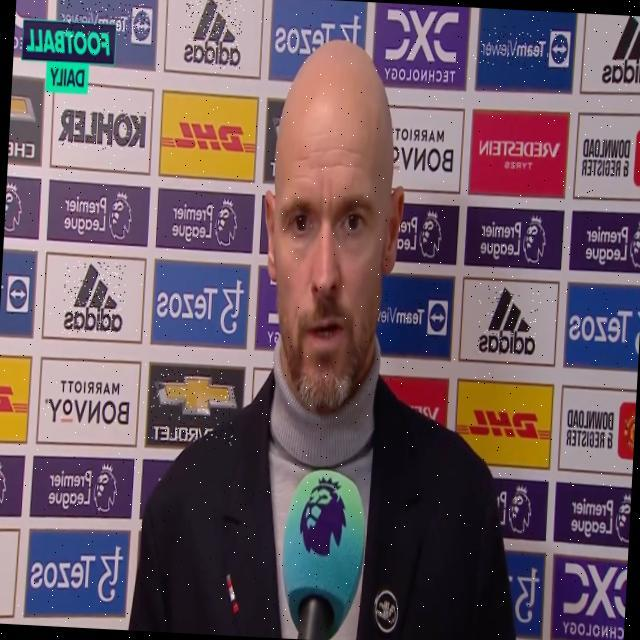Adidas: (62, 261, 127, 335), (477, 286, 539, 357), (182, 0, 244, 69), (599, 14, 640, 88)
Chevrolet: (150, 367, 239, 446)
Kohler: (59, 107, 147, 152)
TeamViewer: (480, 26, 572, 73), (60, 0, 153, 43)
